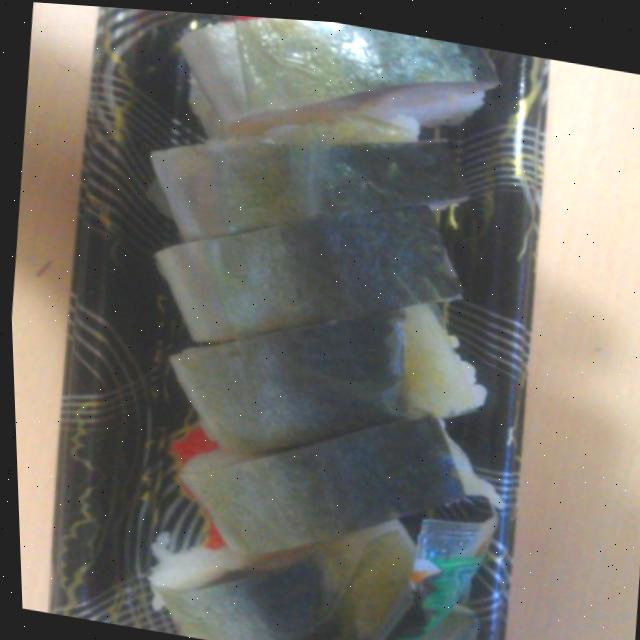寿司卷物: (27, 1, 562, 640)
